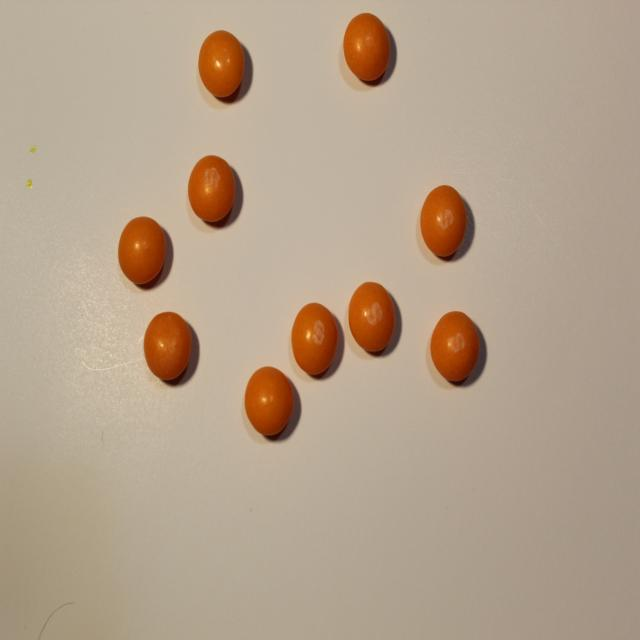smartie: (431, 311, 480, 382), (291, 302, 338, 376), (421, 185, 468, 258), (349, 281, 396, 353), (245, 367, 294, 436), (143, 311, 191, 381), (188, 154, 235, 223), (118, 216, 165, 284), (344, 12, 390, 80), (198, 29, 244, 96)
